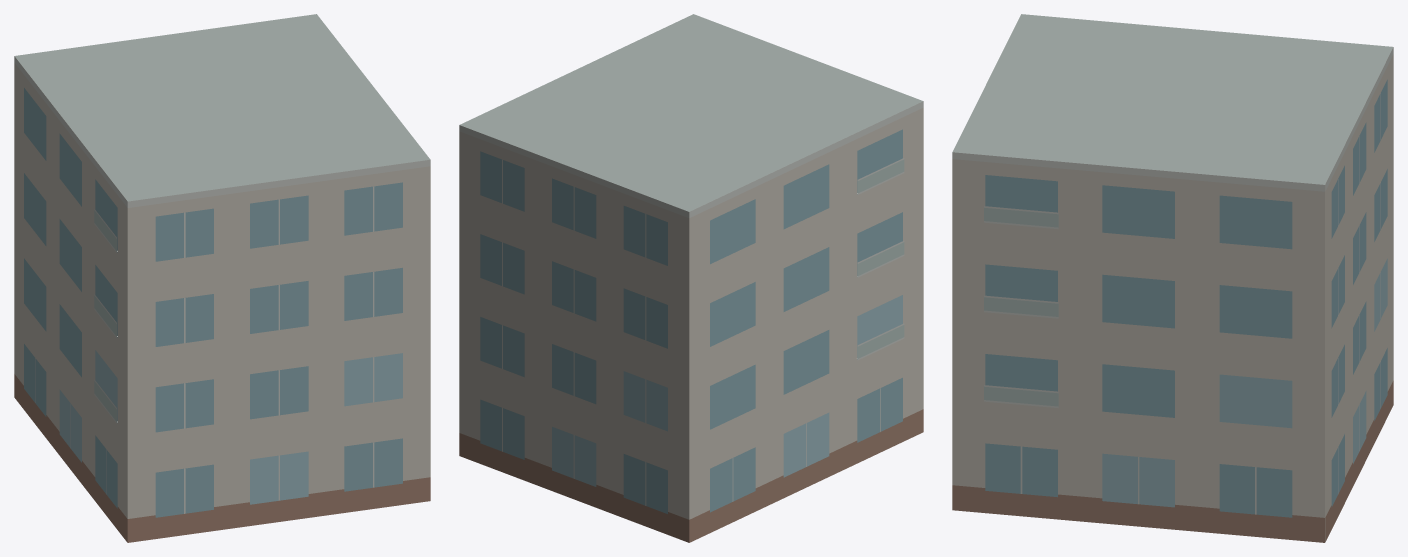
File: survey-upis-32986035.glb
3 views of the same model, side by side, from view 1: azimuth 30°, elevation 25°; view 2: azimuth 150°, elevation 25°; view 3: azimuth 270°, elevation 25° (orthographic). The views are drawn at different scales.
Visible parts, largest first — view 1: survey-upis-32986035.tmp; view 2: survey-upis-32986035.tmp; view 3: survey-upis-32986035.tmp.
Part boxes in pixels (left/top/right/bottom): survey-upis-32986035.tmp: left=14, top=14, right=430, bottom=542; survey-upis-32986035.tmp: left=459, top=14, right=923, bottom=542; survey-upis-32986035.tmp: left=952, top=14, right=1393, bottom=542.
Bounding box in the file's own units: 13.12 × 12.8 × 14.31.
